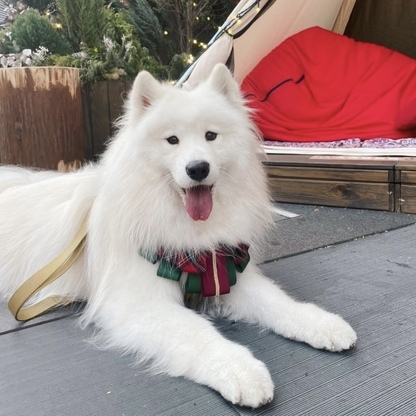samoyed: (2, 53, 364, 416)
